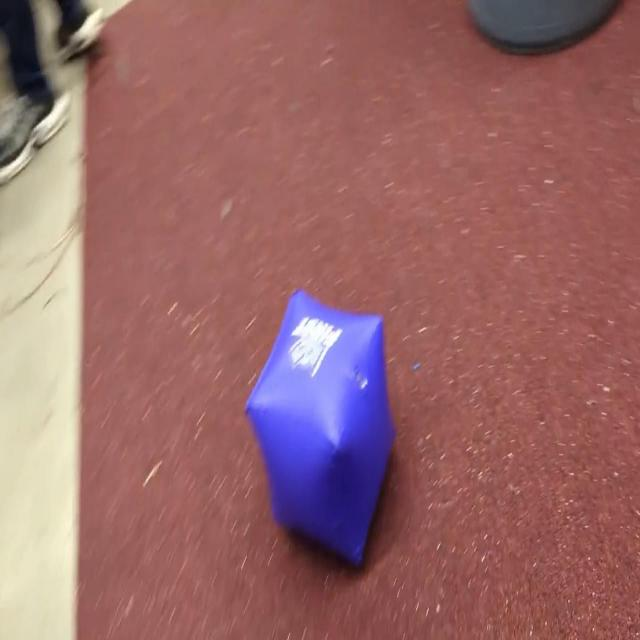frc_cube: (244, 287, 396, 566)
